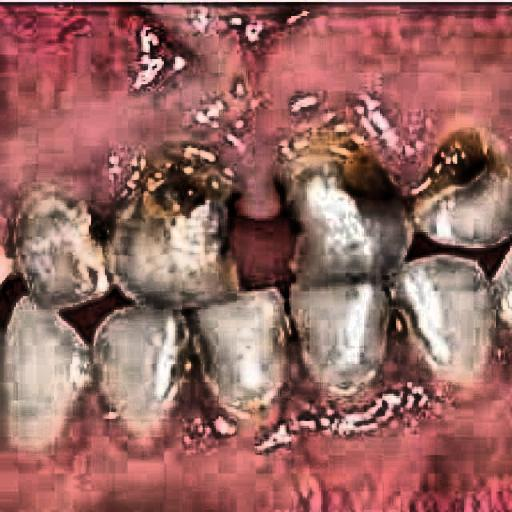Caries: (123, 123, 480, 365)
